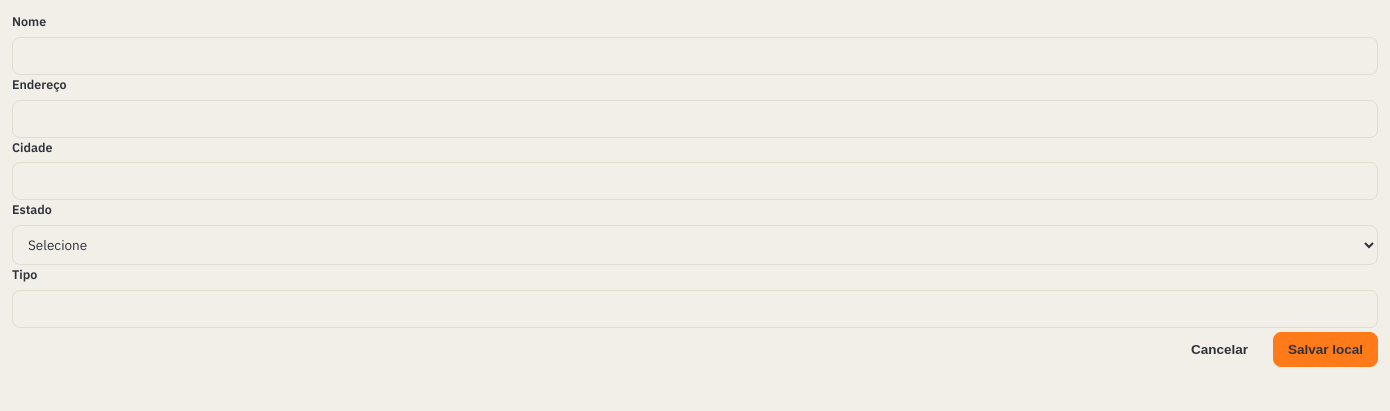
Test: EventVenueForm › exige o nome antes de submeter em modo criação
What coordinates should you click on to do the following:
click the button "Salvar local"
I would click on:
 (1325, 349)
Its box is [1273,332,1378,367].
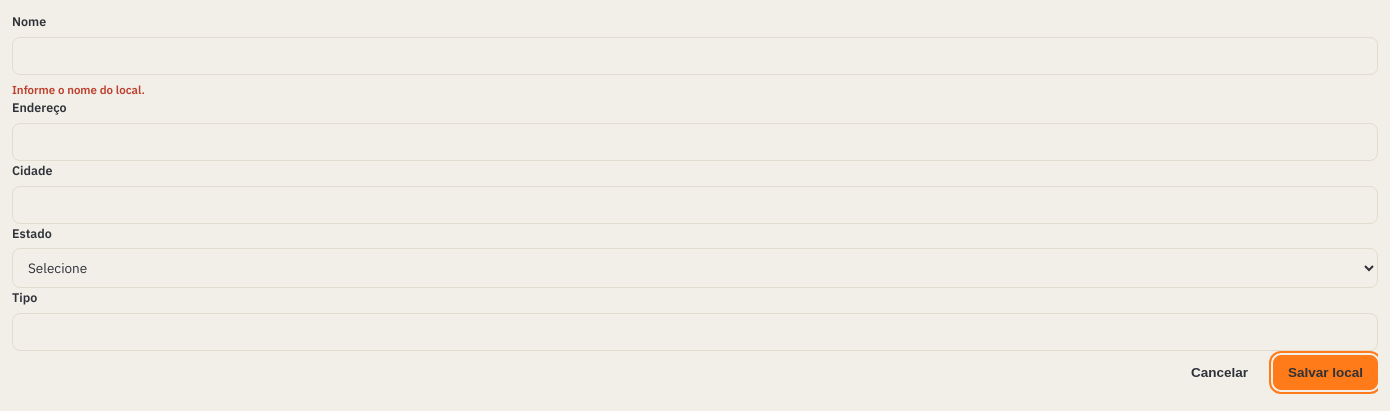
Expected: the text "Informe o nome do local." is shown, [12,82,145,97]
